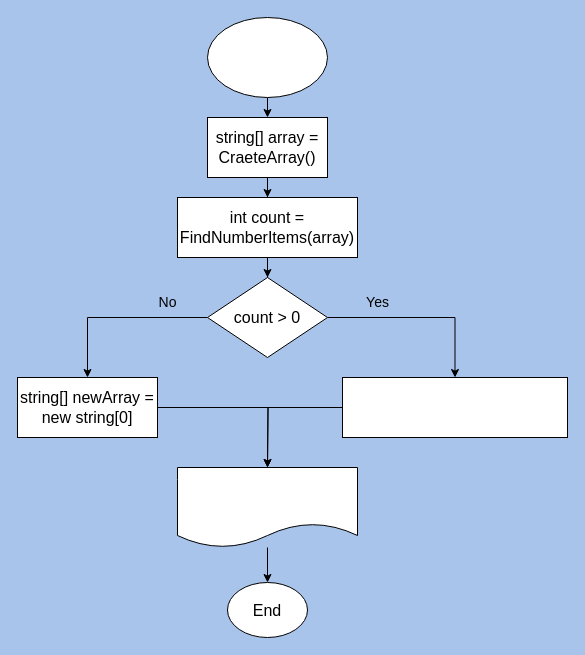
The diagram is 585 pixels wide and 655 high, and some of its shapes have lost their labels. Here are the shapes that lost their labels. From the top down, the centre of each, then its label:
At (267,57): "Start".
At (455,407): "string[] newArray = CraeteNewArray(array, count)".
At (267,507): "PrintArray(newArray)".
